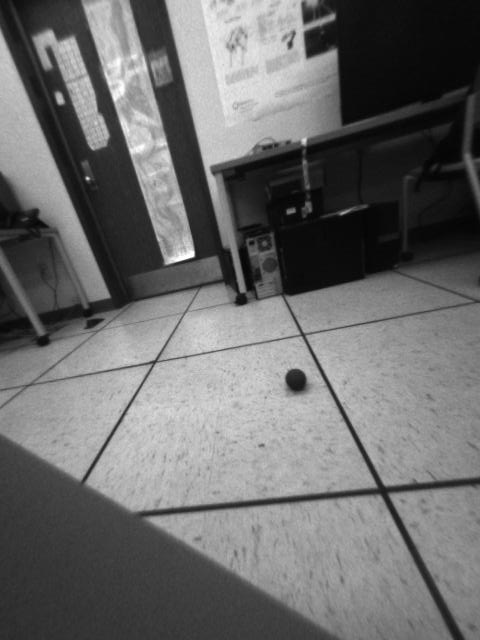dogtoy: (279, 363, 313, 396)
